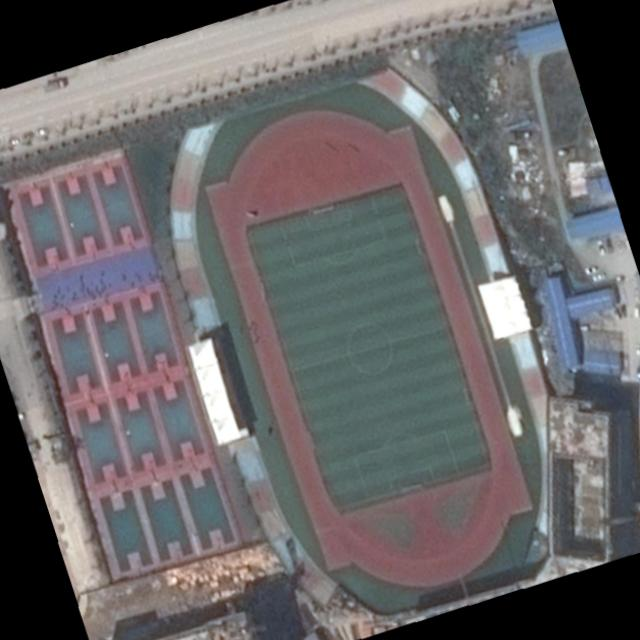small-vehicle: (43, 76, 65, 92), (594, 237, 607, 257), (582, 264, 598, 275), (591, 272, 606, 283), (602, 238, 612, 254), (33, 126, 48, 136), (7, 137, 20, 147)
